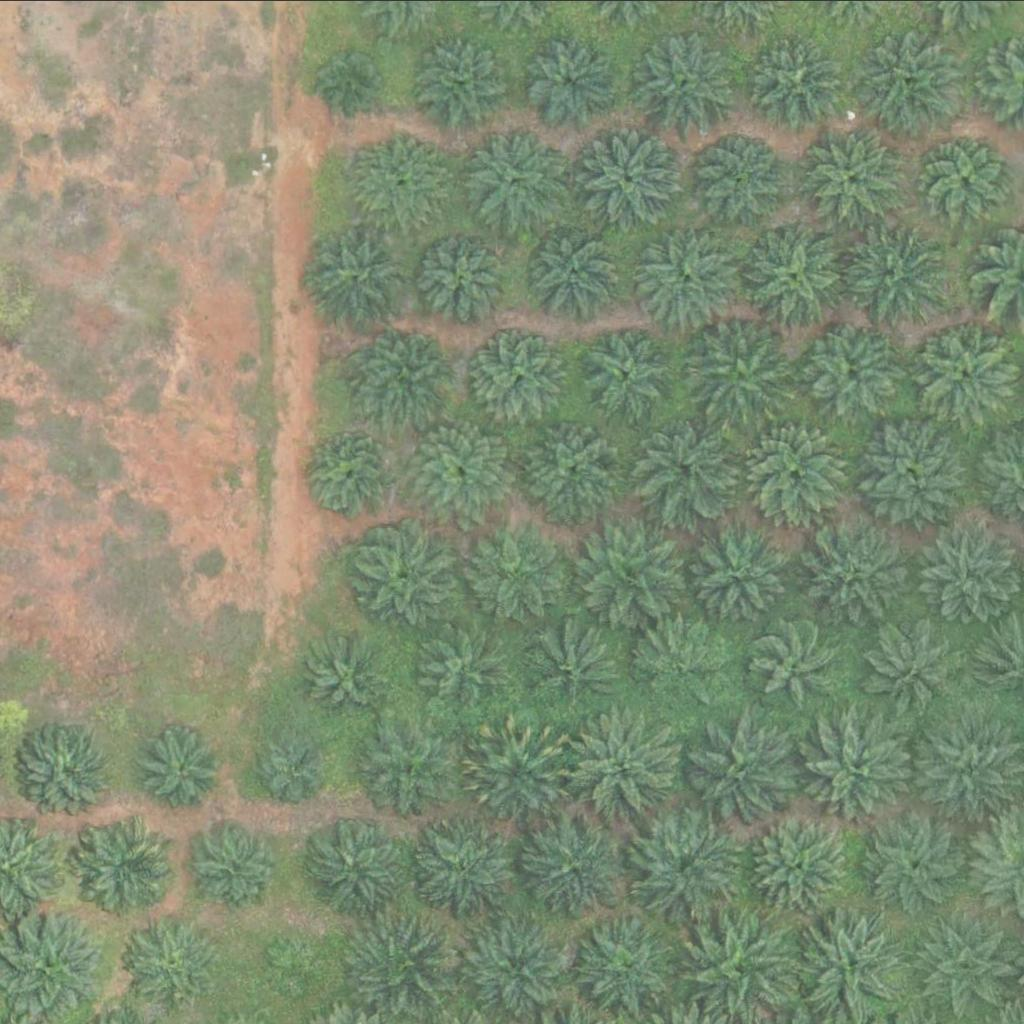Kelapa_Sawit: (406, 412, 520, 525), (518, 408, 632, 521), (682, 311, 796, 424), (739, 219, 853, 332), (838, 211, 952, 324), (462, 714, 575, 827), (303, 811, 416, 924), (566, 710, 679, 823), (683, 715, 796, 828), (805, 711, 918, 824), (629, 24, 742, 137), (632, 222, 746, 334), (854, 25, 968, 137), (411, 811, 524, 923), (340, 910, 453, 1022), (799, 907, 912, 1019), (632, 812, 745, 924), (856, 808, 969, 920), (576, 511, 689, 623), (684, 513, 797, 625), (633, 409, 746, 521), (857, 410, 970, 522), (303, 218, 416, 330), (573, 118, 686, 230), (359, 719, 460, 819), (122, 908, 223, 1008), (524, 818, 625, 918), (747, 815, 848, 915), (808, 517, 909, 617), (744, 419, 845, 519), (358, 322, 459, 422), (801, 317, 902, 417), (417, 221, 518, 321), (523, 219, 624, 319), (355, 128, 456, 228), (461, 126, 562, 226), (413, 32, 514, 132), (521, 29, 622, 129), (745, 31, 846, 131), (916, 324, 1017, 424), (17, 719, 117, 819), (77, 818, 177, 918), (358, 526, 458, 626), (468, 513, 568, 613), (467, 322, 567, 422), (578, 319, 678, 419), (689, 127, 789, 227), (806, 125, 906, 225), (916, 128, 1016, 228), (141, 726, 229, 814), (303, 631, 391, 719), (533, 620, 621, 708), (423, 616, 511, 703), (193, 825, 281, 912), (637, 617, 725, 704), (751, 622, 839, 709), (867, 621, 955, 708), (306, 431, 394, 518), (316, 46, 379, 109), (261, 738, 324, 801), (264, 937, 327, 999)
